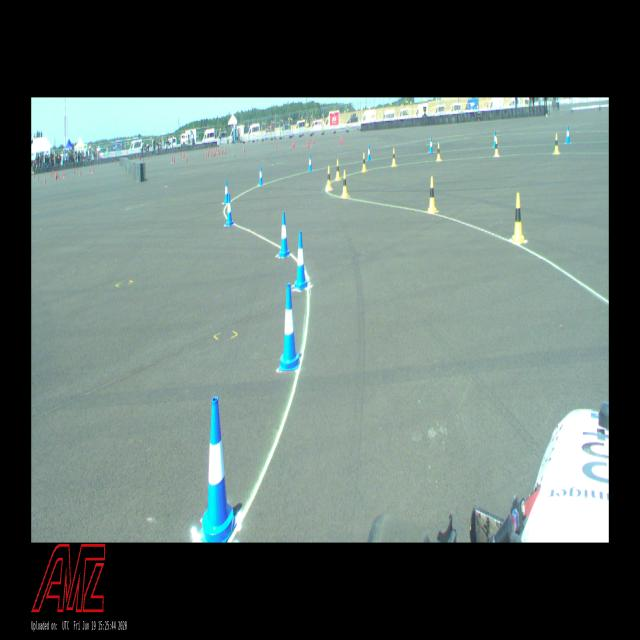blue_cone: (200, 397, 237, 543), (279, 283, 301, 370), (295, 232, 307, 288), (278, 212, 290, 258), (226, 194, 233, 226), (224, 180, 228, 203), (493, 132, 498, 148), (259, 166, 263, 185), (566, 126, 570, 143), (309, 155, 312, 171), (430, 138, 432, 153), (368, 145, 370, 160)
yellow_cone: (512, 193, 524, 242), (428, 177, 436, 213), (342, 170, 348, 197), (326, 166, 332, 190), (335, 159, 340, 180), (554, 134, 559, 154), (362, 153, 366, 172), (392, 148, 396, 166), (437, 143, 441, 161), (495, 138, 499, 156)
